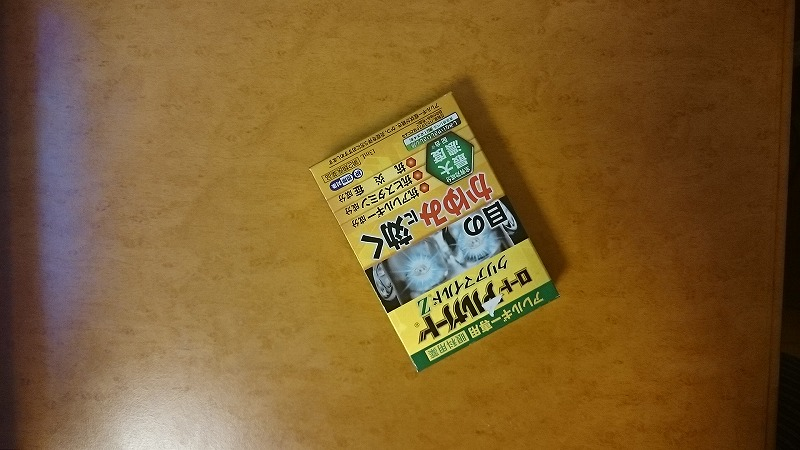C: (309, 85, 564, 376)
